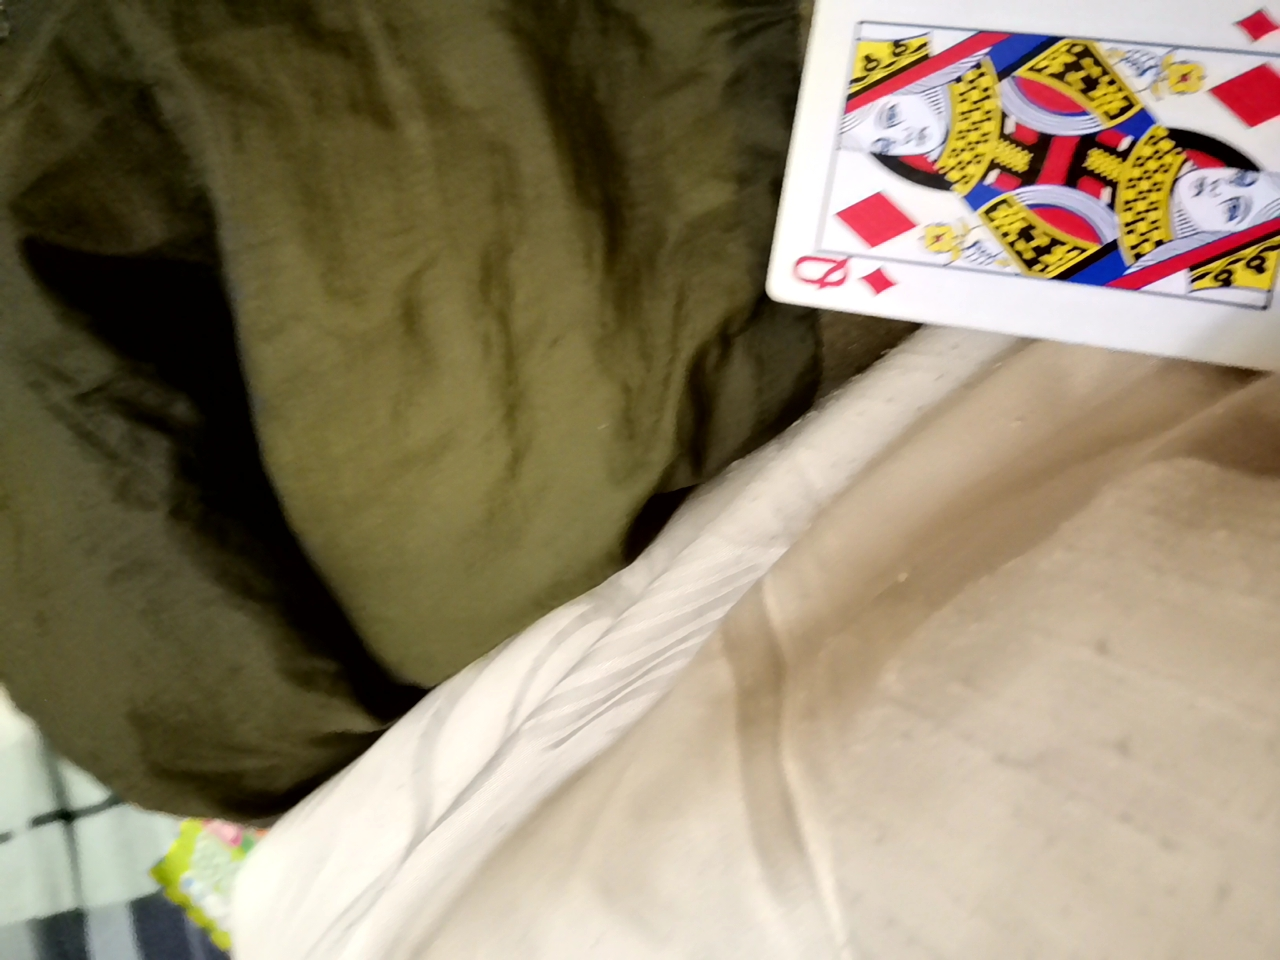fk q: (813, 1, 1274, 339)
